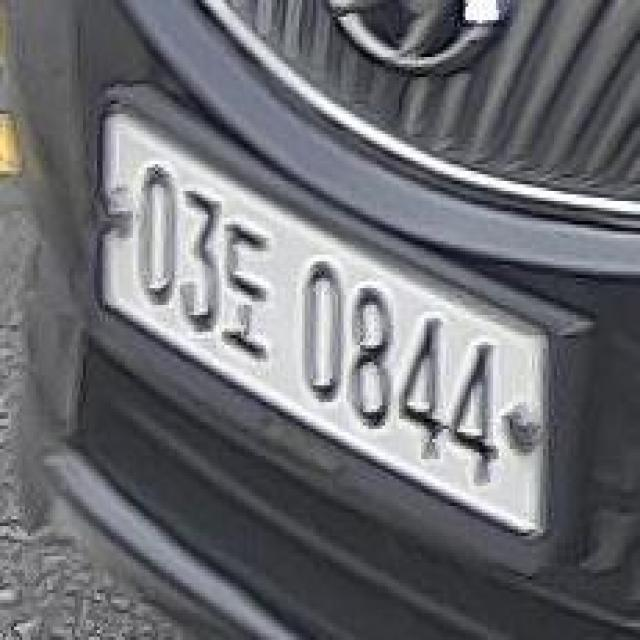illegal_plate: (92, 118, 554, 548)
